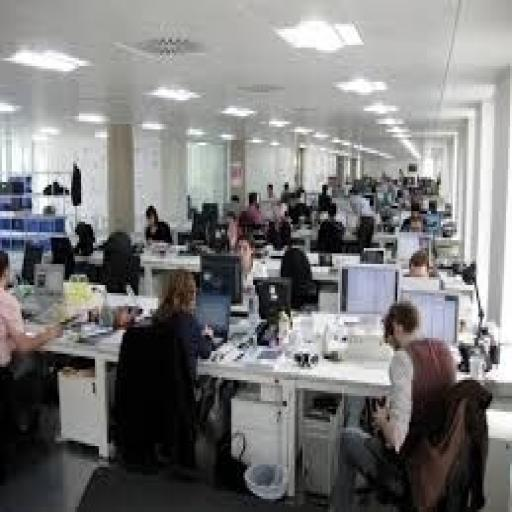sitting: (0, 176, 472, 504)
